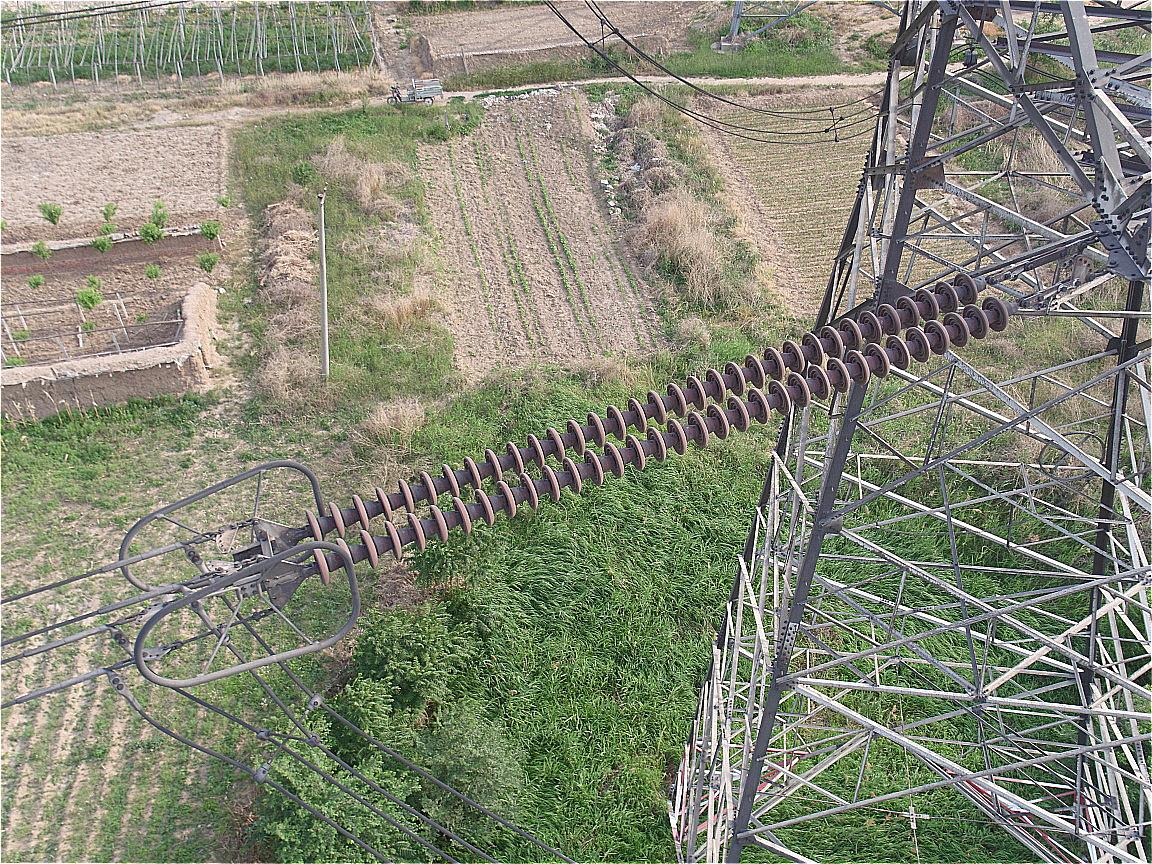insultor1: (305, 270, 1008, 587)
